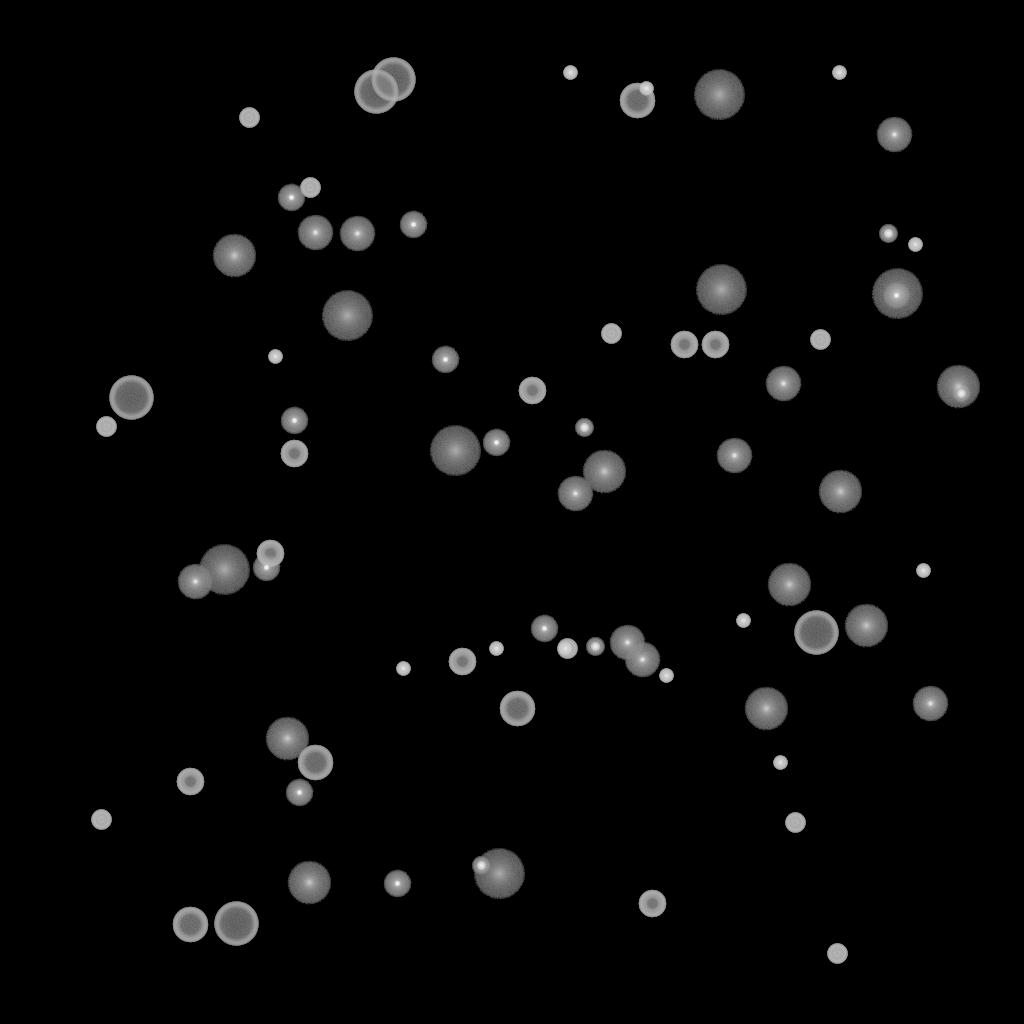depth:-10: (383, 870, 411, 898), (530, 615, 558, 643), (882, 282, 910, 310), (252, 554, 280, 582), (482, 429, 510, 457), (431, 346, 459, 374), (285, 779, 313, 807), (399, 211, 427, 239), (280, 407, 308, 435), (277, 184, 305, 212)
depth:-20: (879, 225, 897, 243), (575, 419, 593, 437), (472, 857, 490, 875), (586, 638, 604, 656), (952, 385, 970, 403)
depth:-30: (489, 642, 503, 656), (639, 82, 653, 96), (916, 564, 930, 578), (773, 756, 787, 770), (659, 669, 673, 683), (563, 66, 577, 80), (908, 238, 922, 252), (558, 642, 572, 656), (396, 662, 410, 676), (832, 66, 846, 80), (736, 614, 750, 628), (268, 350, 282, 364)
depth:-40: (96, 417, 116, 437), (810, 330, 830, 350), (557, 639, 577, 659), (91, 810, 111, 830), (601, 324, 621, 344), (827, 944, 847, 964), (300, 178, 320, 198), (785, 813, 805, 833), (239, 108, 259, 128)
depth:-50: (670, 331, 698, 359), (518, 377, 546, 405), (638, 890, 666, 918), (701, 331, 729, 359), (256, 540, 284, 568), (176, 768, 204, 796), (448, 648, 476, 676), (280, 440, 308, 468)
depth:-60: (619, 83, 655, 119), (499, 691, 535, 727), (297, 745, 333, 781), (172, 907, 208, 943)
depth:-70: (371, 58, 415, 102), (214, 902, 258, 946), (354, 70, 398, 114), (794, 611, 838, 655), (109, 376, 153, 420)
depth:0: (876, 117, 912, 153), (912, 686, 948, 722), (339, 216, 375, 252), (716, 438, 752, 474), (297, 215, 333, 251), (624, 642, 660, 678), (557, 476, 593, 512), (765, 366, 801, 402), (177, 564, 213, 600), (609, 625, 645, 661)
depth:10: (582, 450, 626, 494), (287, 861, 331, 905), (818, 470, 862, 514), (744, 687, 788, 731), (767, 563, 811, 607), (212, 234, 256, 278), (936, 365, 980, 409), (844, 604, 888, 648), (265, 717, 309, 761)
depth:20: (429, 426, 481, 476), (198, 545, 250, 595), (871, 269, 923, 319), (321, 291, 373, 341), (693, 70, 745, 120), (695, 265, 747, 315), (473, 849, 525, 899)
